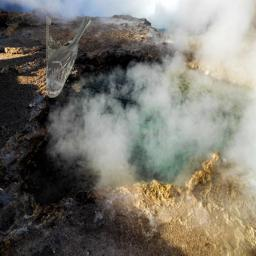Sparrow: (46, 16, 91, 98)
